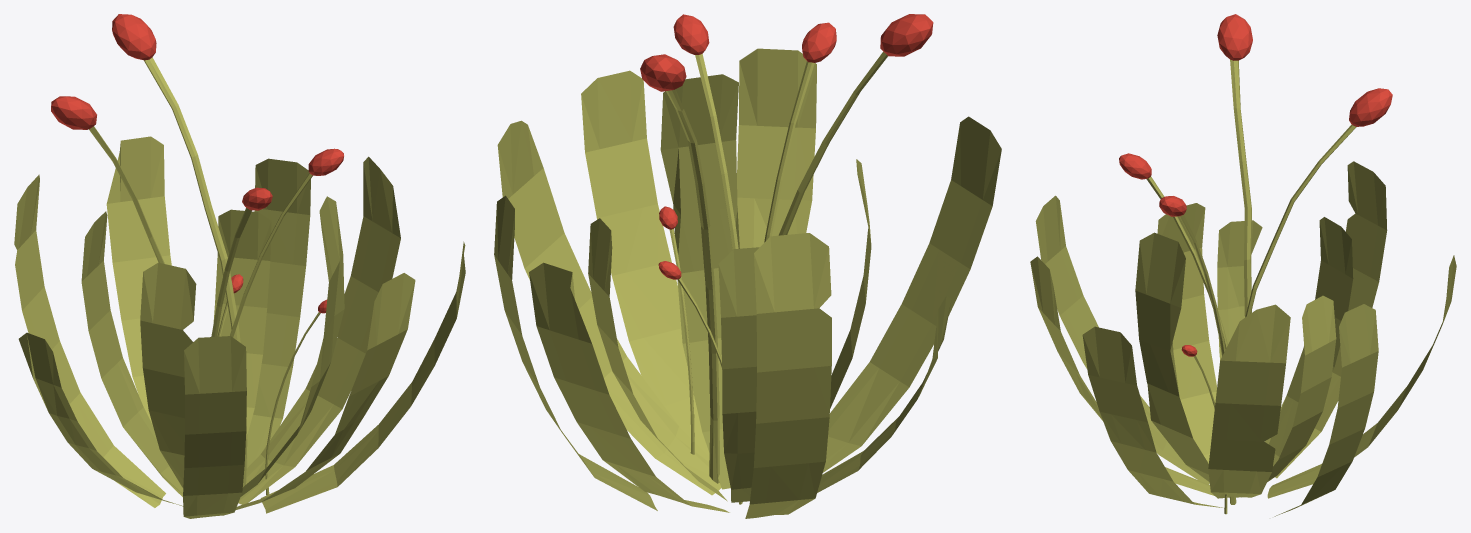
File: SFHW_Plant_006.fbx
The picture shows the model from 3 angles, left to right: view 1: azimuth 30°, elevation 25°; view 2: azimuth 150°, elevation 25°; view 3: azimuth 270°, elevation 25°; orthographic projection. The views are drawn at different scales.
Parts seen in each view (by area): view 1: SFHW_Plant_006; view 2: SFHW_Plant_006; view 3: SFHW_Plant_006.
Part boxes in pixels (x1=…): SFHW_Plant_006: x1=14, y1=14, x2=465, y2=518; SFHW_Plant_006: x1=494, y1=14, x2=1001, y2=518; SFHW_Plant_006: x1=1030, y1=14, x2=1456, y2=516.
Bounding box in the file's own units: 34.47 × 39.18 × 37.05.
